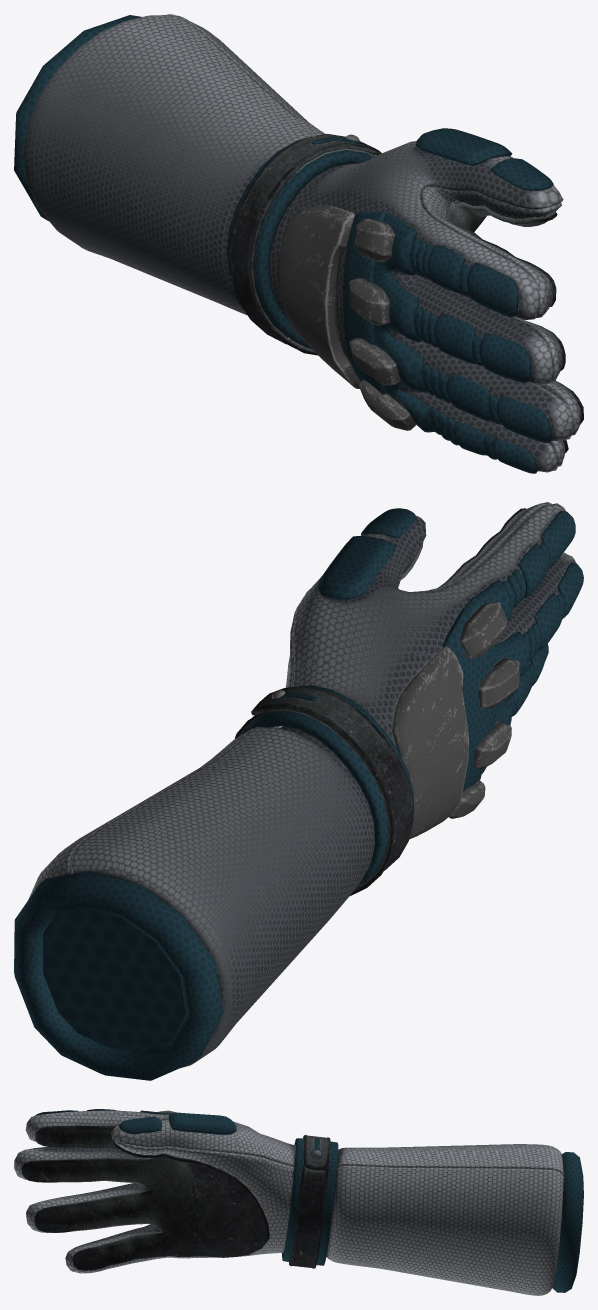
The model's file is RightHand.fbx.
The picture shows the model from 3 angles, top to bottom: view 1: azimuth 30°, elevation 25°; view 2: azimuth 150°, elevation 25°; view 3: azimuth 270°, elevation 25°; orthographic projection. The views are drawn at different scales.
Visible parts, largest first — view 1: RightHand; view 2: RightHand; view 3: RightHand.
Part boxes in pixels (box(x1,y1,x2,y2)): RightHand: box(14, 14, 583, 473); RightHand: box(14, 502, 583, 1080); RightHand: box(14, 1109, 583, 1295).
Size of the model in its own units: 10.8 by 15.08 by 41.29.
Materials: 1 (1 with a texture image).
